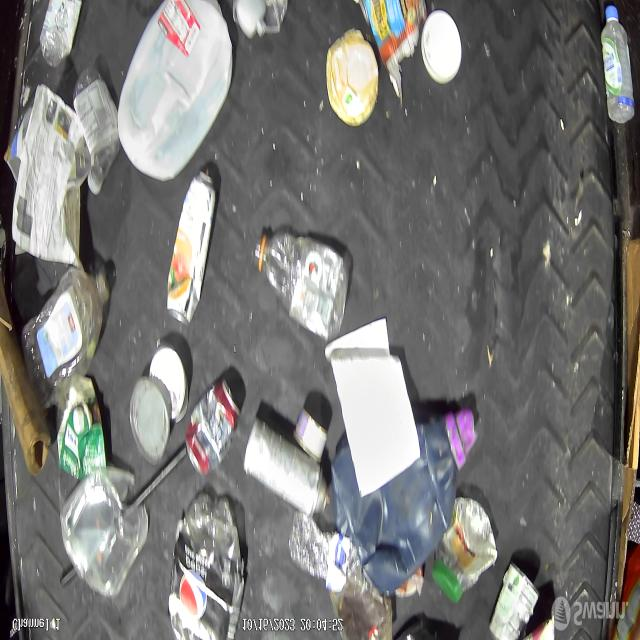can: (244, 417, 330, 520), (166, 167, 217, 328), (185, 377, 241, 477), (489, 560, 540, 640), (150, 347, 190, 425), (293, 409, 328, 463)
milk_jug: (117, 0, 233, 183)
non_white_jug: (332, 408, 478, 597)
plastic_bottle: (20, 266, 111, 412), (170, 494, 244, 640), (253, 232, 349, 341), (72, 64, 120, 196), (600, 6, 635, 124), (38, 0, 82, 69)
